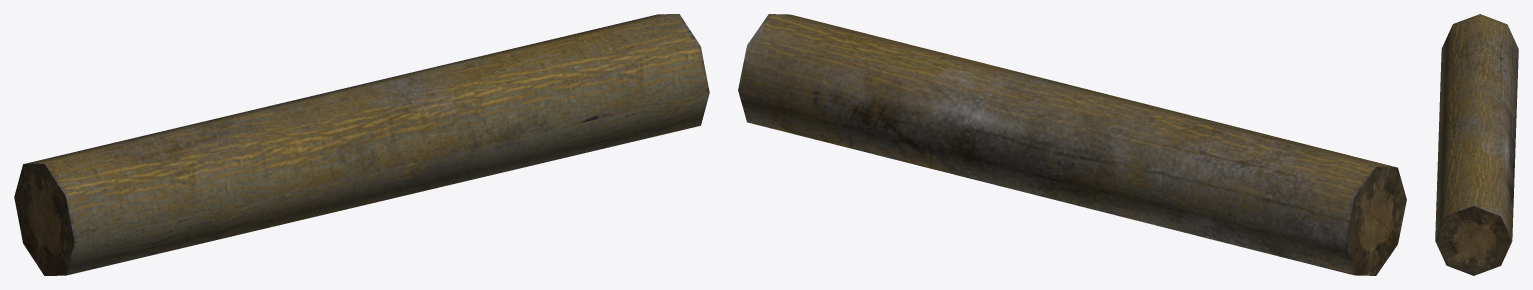
The model's file is piece.obj.
3 renders of one model, left to right at view 1: azimuth 30°, elevation 25°; view 2: azimuth 150°, elevation 25°; view 3: azimuth 270°, elevation 25°, orthographic. The views are drawn at different scales.
Visible parts, largest first — view 1: SW_C_lo; view 2: SW_C_lo; view 3: SW_C_lo.
Boxes of the visible parts, x1,y1,x2,y2 form: SW_C_lo: [14, 14, 709, 275]; SW_C_lo: [738, 14, 1406, 275]; SW_C_lo: [1435, 14, 1518, 275].
Bounding box in the file's own units: 1.24 × 0.21 × 0.2275.
1 material, 1 textured.
